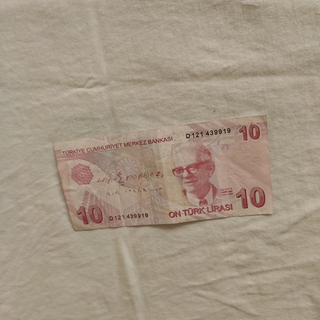10TLBack: (52, 112, 274, 232)
